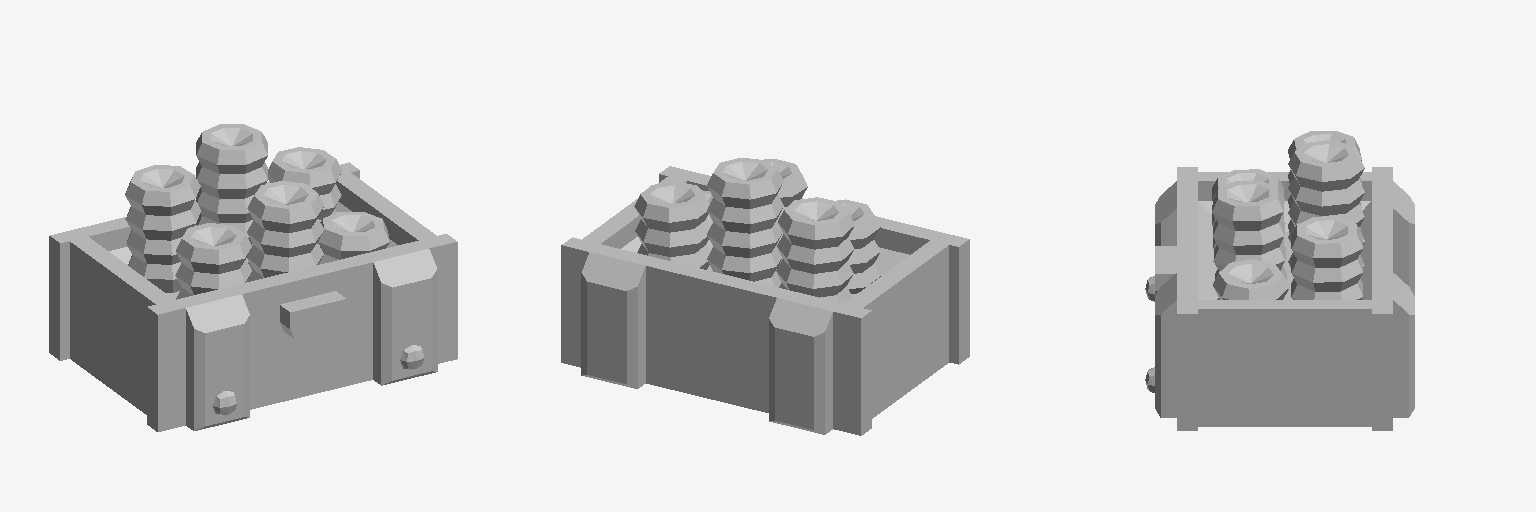
Rendered from chest_gold.obj.
3 views of the same model, side by side, from view 1: azimuth 30°, elevation 25°; view 2: azimuth 150°, elevation 25°; view 3: azimuth 270°, elevation 25° (orthographic).
Visible parts, largest first — view 1: chest_gold_Cube.14744; view 2: chest_gold_Cube.14744; view 3: chest_gold_Cube.14744.
Part boxes in pixels (x1,y1,x2,y2): chest_gold_Cube.14744: (49,124,457,431); chest_gold_Cube.14744: (561,158,969,435); chest_gold_Cube.14744: (1145,131,1414,430).
Size of the model in its own units: 1.6 by 1.04 by 1.25.